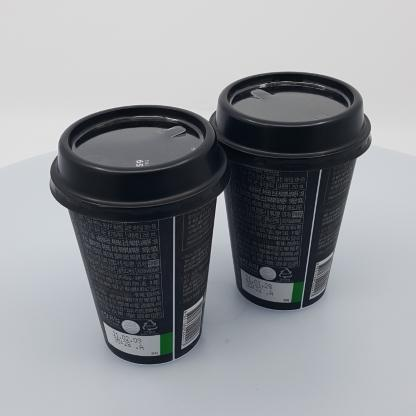----------------: (50, 104, 232, 365), (205, 70, 371, 311)
